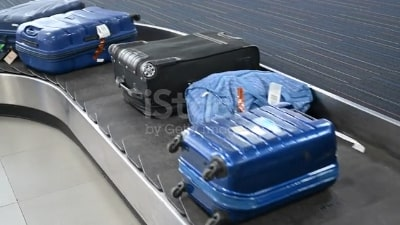baggage: (166, 101, 340, 223), (108, 29, 262, 120), (13, 5, 142, 73)
